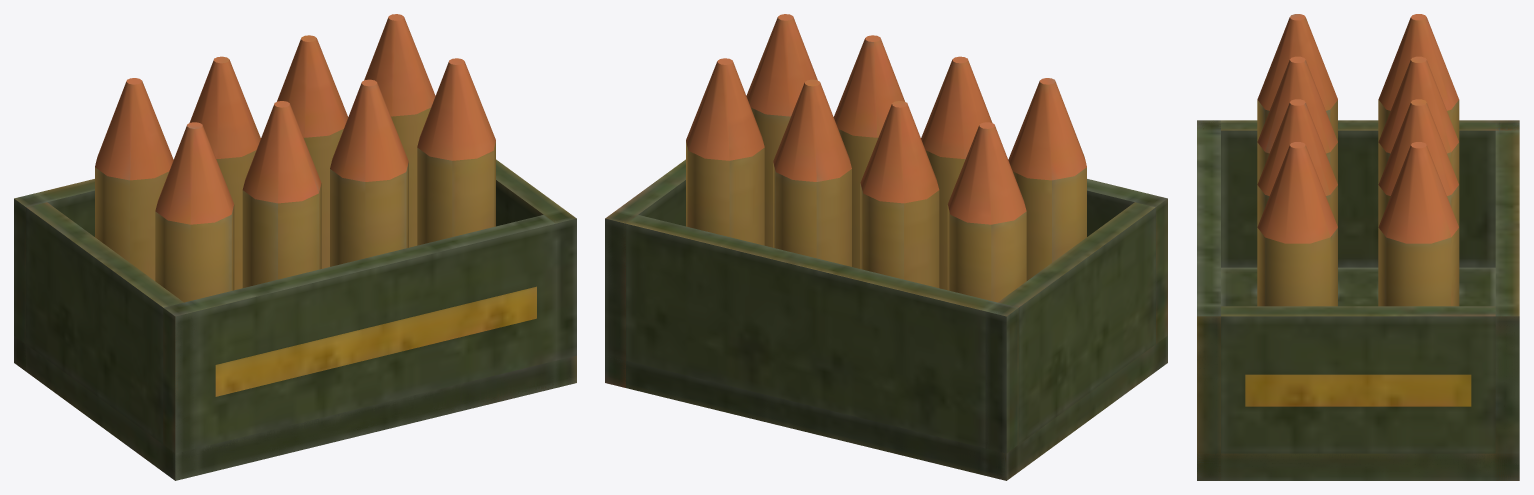
Rendered from ammunition.glb.
3 renders of one model, left to right at view 1: azimuth 30°, elevation 25°; view 2: azimuth 150°, elevation 25°; view 3: azimuth 270°, elevation 25°, orthographic.
Visible parts, largest first — view 1: te_res_ammunition; view 2: te_res_ammunition; view 3: te_res_ammunition.
Boxes of the visible parts, x1,y1,x2,y2 form: te_res_ammunition: [14, 14, 576, 480]; te_res_ammunition: [605, 14, 1167, 480]; te_res_ammunition: [1197, 14, 1519, 480].
Size of the model in its own units: 0.4606 by 0.33 by 0.3206.
1 material, 1 textured.
